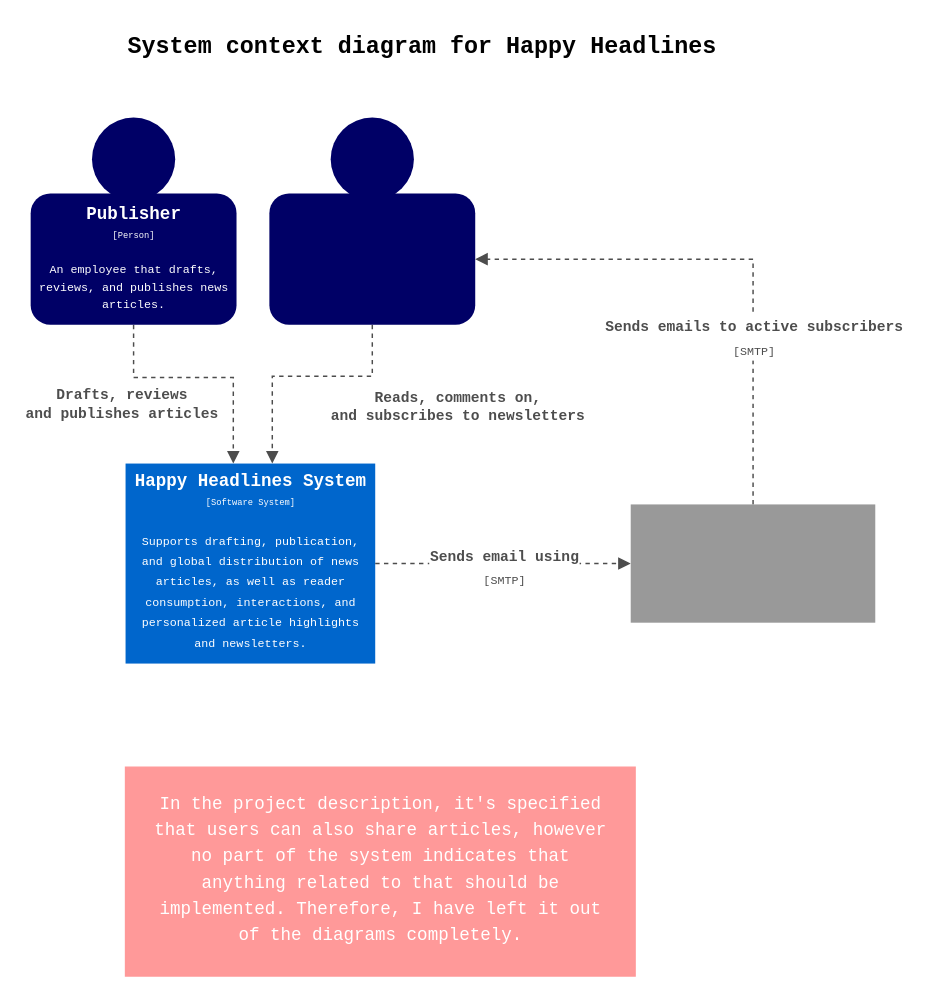
Image size: 929x1002. Some labels were removed from this diagram. The shapes that lost their labels are listed below. From the top down, each one's box as (x1, y1, x2, y2) in pixels, then its label:
(269, 193, 474, 324): Reader [Person] A reader that consumes and interacts with news articles.
(630, 504, 875, 622): Email System [Software System] The internal email system.
